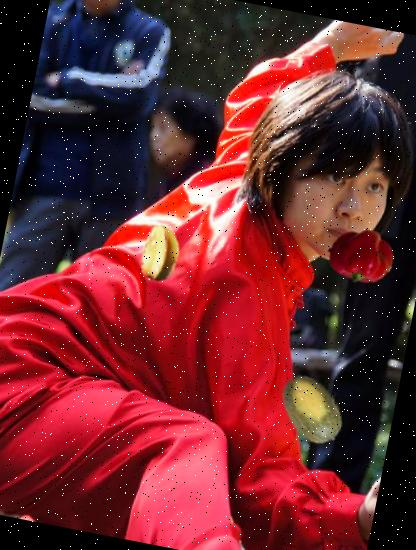Carambula: (127, 220, 194, 288)
Melon: (271, 364, 359, 452)
Pepper: (324, 218, 399, 292)
